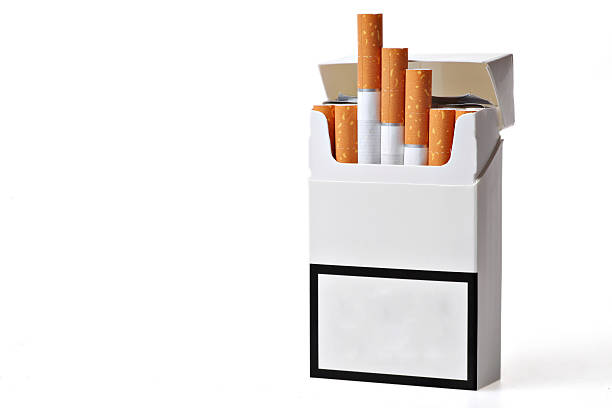cigarette: (305, 51, 515, 391), (357, 9, 384, 164), (380, 47, 408, 164), (403, 67, 433, 166), (427, 107, 455, 165), (335, 103, 359, 163), (312, 103, 336, 160)
